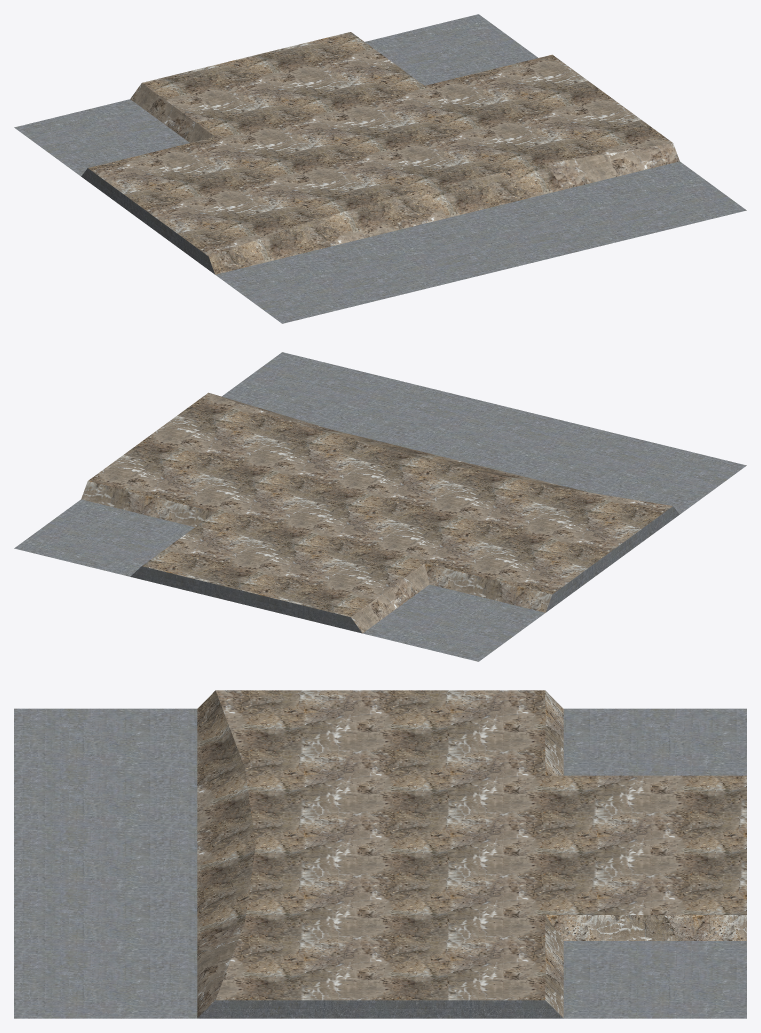
3 views of the same model, one above another, from view 1: azimuth 30°, elevation 25°; view 2: azimuth 150°, elevation 25°; view 3: azimuth 270°, elevation 25° (orthographic). The views are drawn at different scales.
Parts seen in each view (by area): view 1: TexturesCom_ConcreteRough0076_1_seamless_S, TexturesCom_ConcreteBare0398_7_seamless_S; view 2: TexturesCom_ConcreteRough0076_1_seamless_S, TexturesCom_ConcreteBare0398_7_seamless_S; view 3: TexturesCom_ConcreteRough0076_1_seamless_S, TexturesCom_ConcreteBare0398_7_seamless_S.
Boxes of the visible parts, x1,y1,x2,y2 form: TexturesCom_ConcreteRough0076_1_seamless_S: (88, 32, 679, 274); TexturesCom_ConcreteBare0398_7_seamless_S: (14, 14, 746, 323); TexturesCom_ConcreteRough0076_1_seamless_S: (81, 392, 672, 633); TexturesCom_ConcreteBare0398_7_seamless_S: (14, 352, 746, 661); TexturesCom_ConcreteRough0076_1_seamless_S: (197, 690, 746, 1017); TexturesCom_ConcreteBare0398_7_seamless_S: (14, 708, 746, 1018).
Size of the model in its own units: 5 by 0.1384 by 5.
2 materials, 2 textured.
